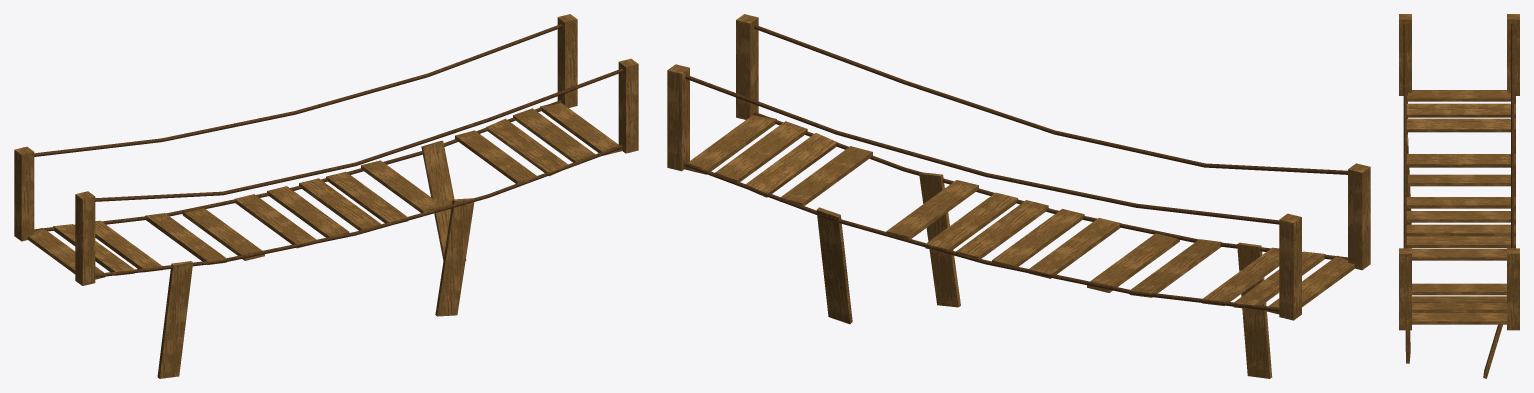
Rendered from bridge.fbx.
3 renders of one model, left to right at view 1: azimuth 30°, elevation 25°; view 2: azimuth 150°, elevation 25°; view 3: azimuth 270°, elevation 25°, orthographic. The views are drawn at different scales.
Parts seen in each view (by area): view 1: bridge; view 2: bridge; view 3: bridge.
Boxes of the visible parts, x1,y1,x2,y2 form: bridge: [14, 14, 638, 378]; bridge: [667, 14, 1370, 378]; bridge: [1399, 14, 1519, 378].
Bounding box in the file's own units: 9.18 × 3.33 × 1.95.
